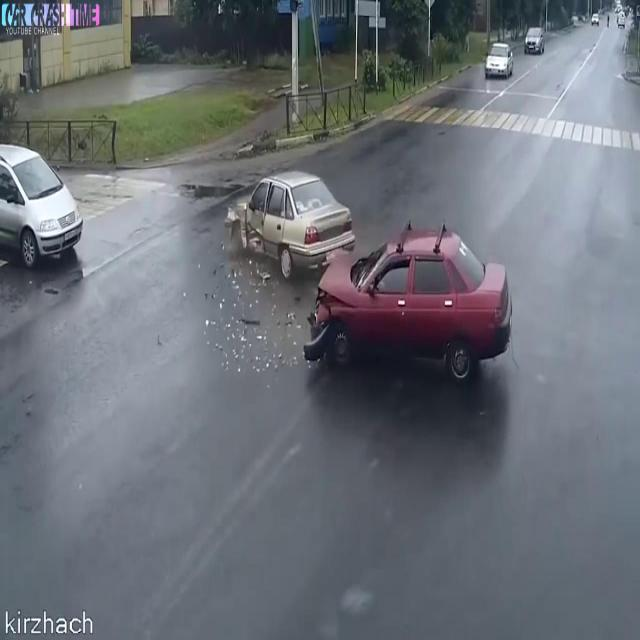accident: (206, 156, 520, 404)
